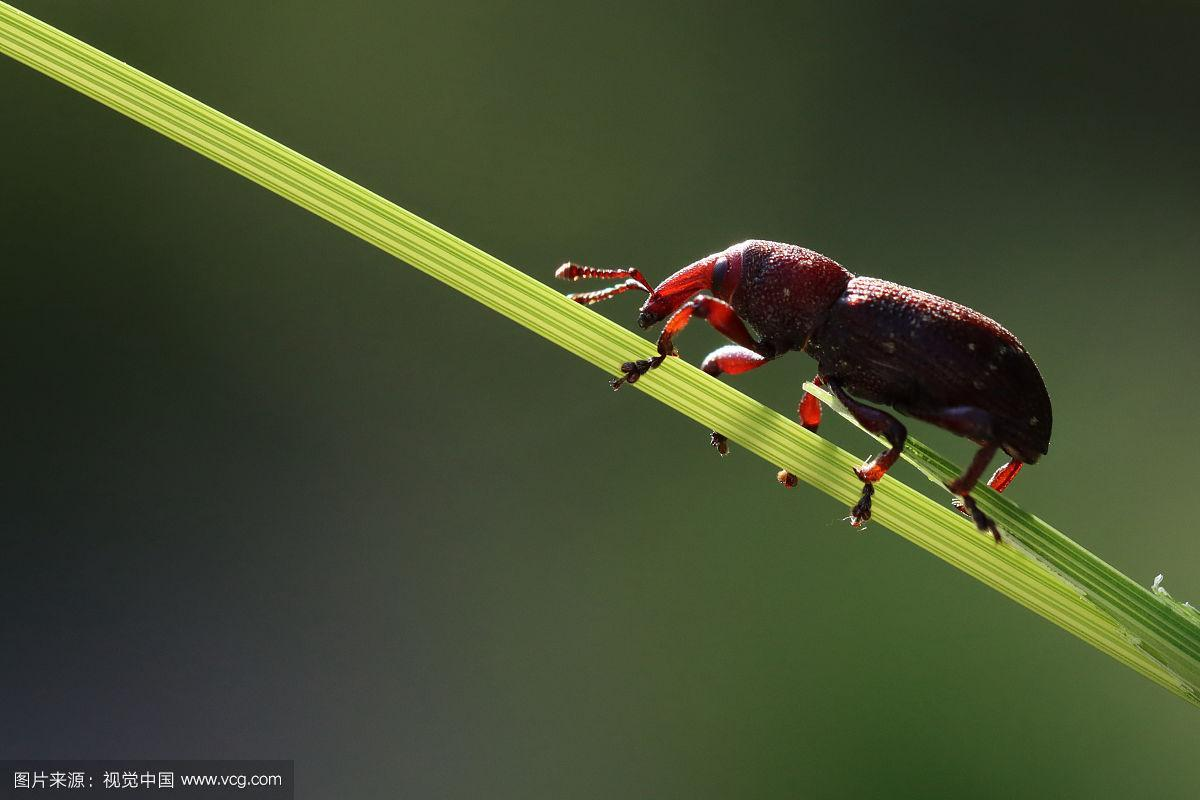Curculionidae: (555, 236, 1054, 544)
